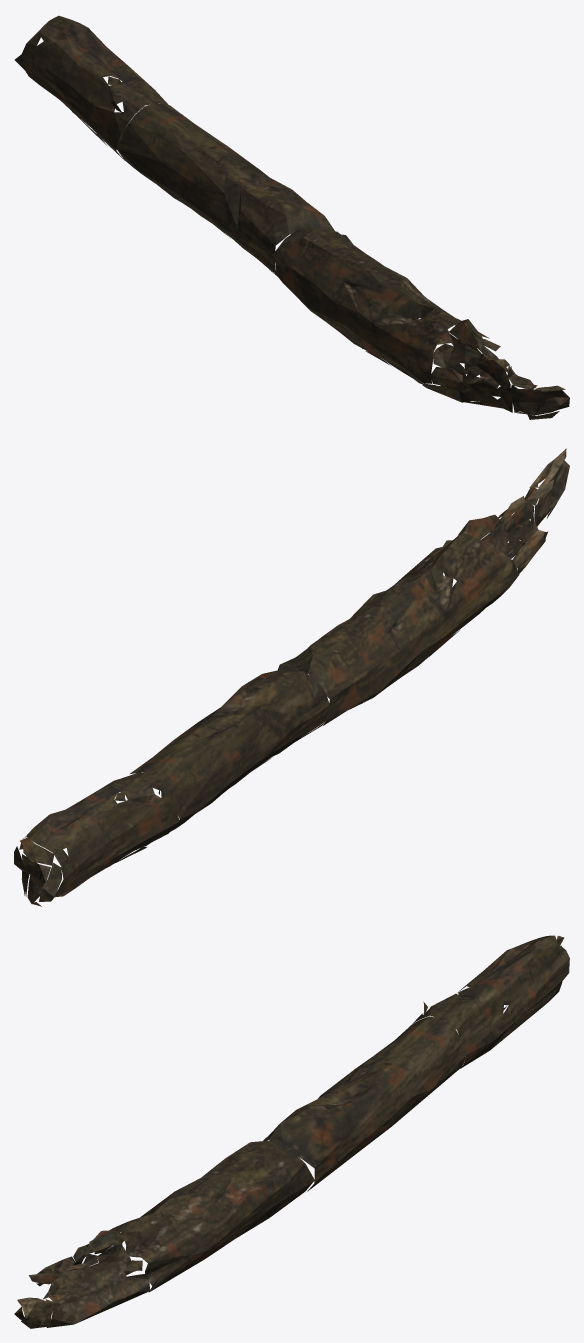
Rendered from prop_deadtree.glb.
3 renders of one model, top to bottom at view 1: azimuth 30°, elevation 25°; view 2: azimuth 150°, elevation 25°; view 3: azimuth 330°, elevation 25°, orthographic.
Visible parts, largest first — view 1: hull; view 2: hull; view 3: hull.
Part boxes in pixels (x1,y1,x2,y2): hull: (14,15,569,419); hull: (14,448,569,906); hull: (14,935,569,1328).
Bounding box in the file's own units: 0.1791 × 0.1826 × 2.
Materials: 1 (1 with a texture image).
